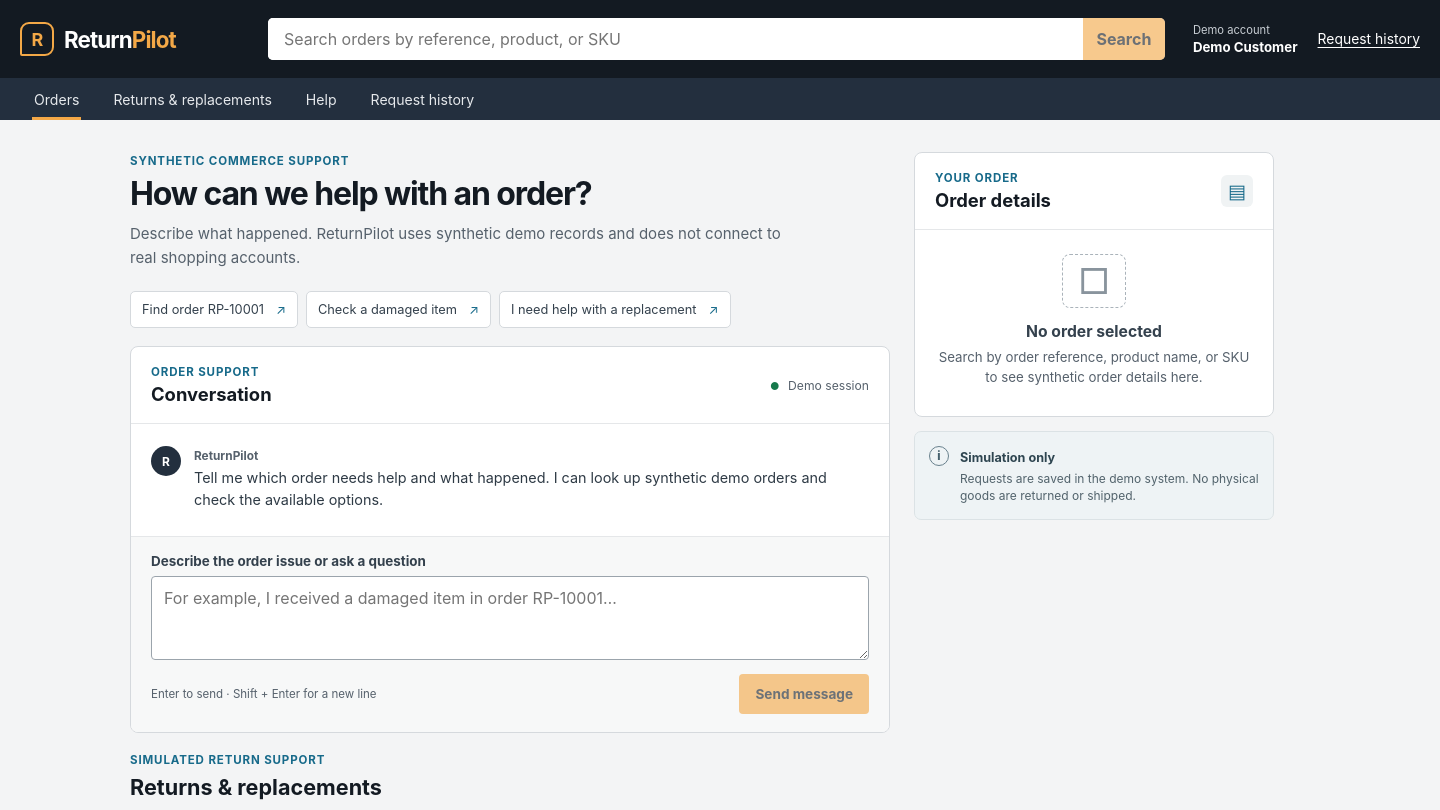
customer workspace › does not use a seeded order ID as a request-history ID
expect the text "Demo Customer" is shown: met, box [1193,39,1298,55]
Step 1. Type "RP-10001" into the field labelled "Search orders by reference, product, or SKU" → (675, 39), box [268,18,1083,60]
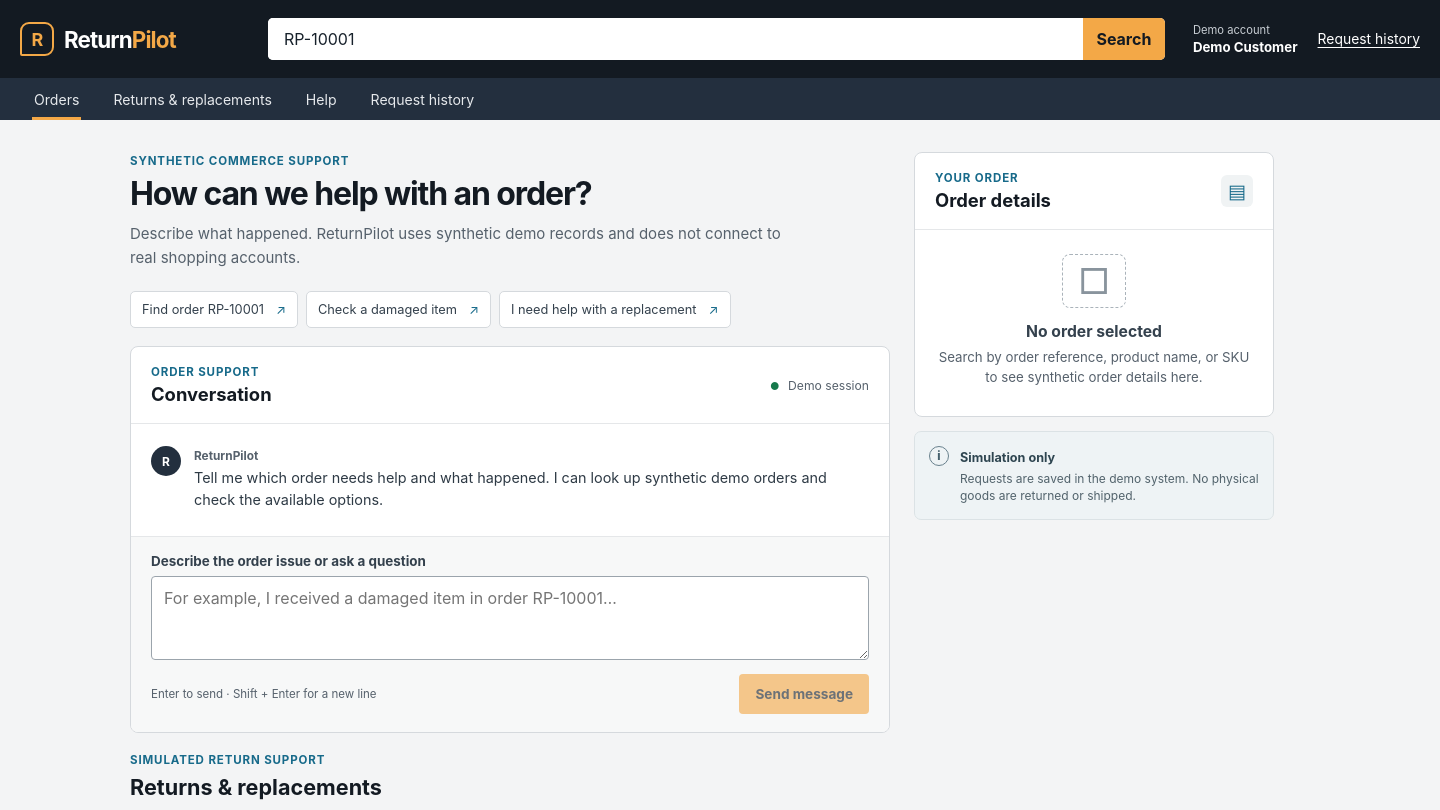
Step 2. Click the button with aria-label "Search orders" → (1124, 39), box [1083,18,1165,60]
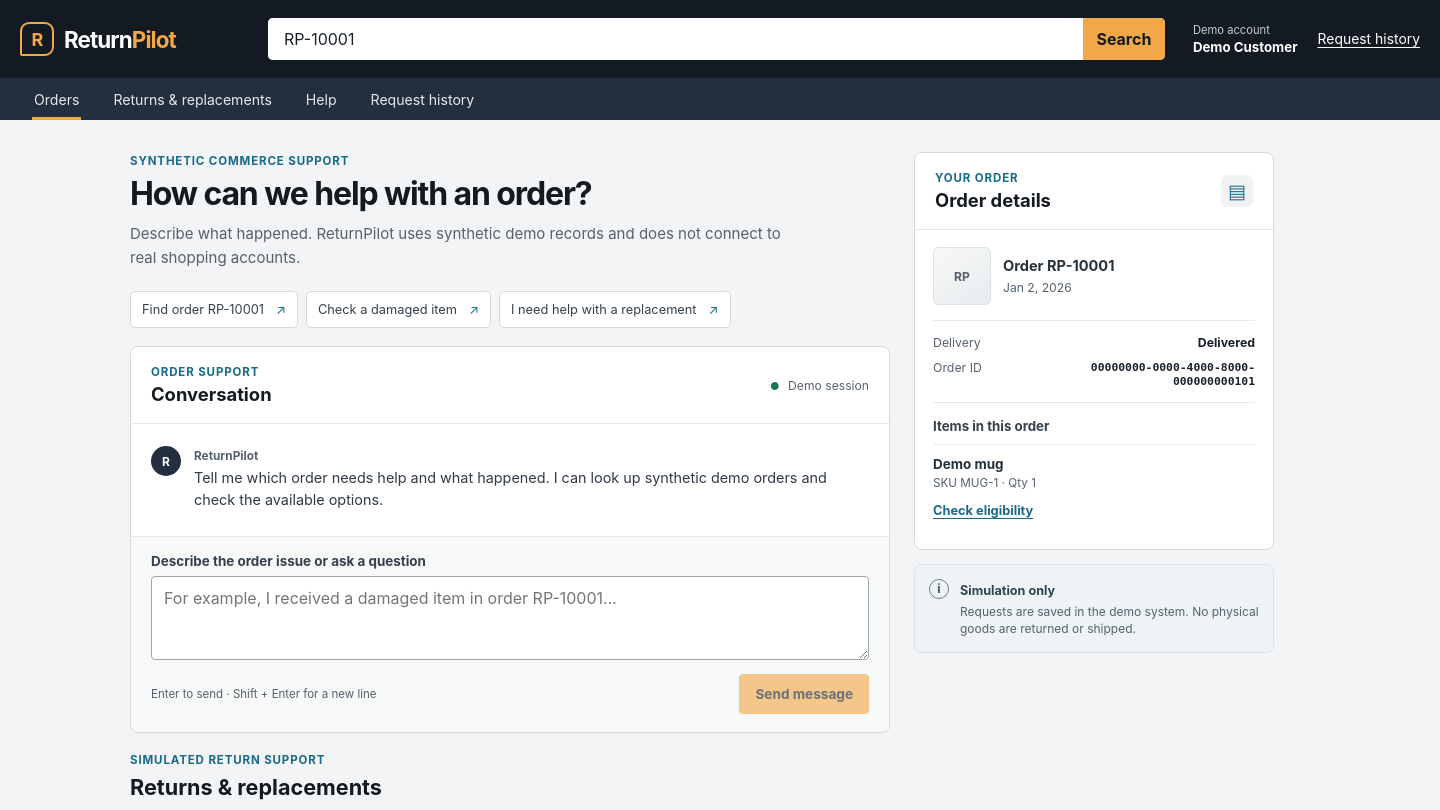
expect the text "Demo mug" is shown: met, box [933,456,1004,472]
Step 3. Click the button "Request history" next to "Demo Customer" → (1369, 39), box [1318,23,1420,55]
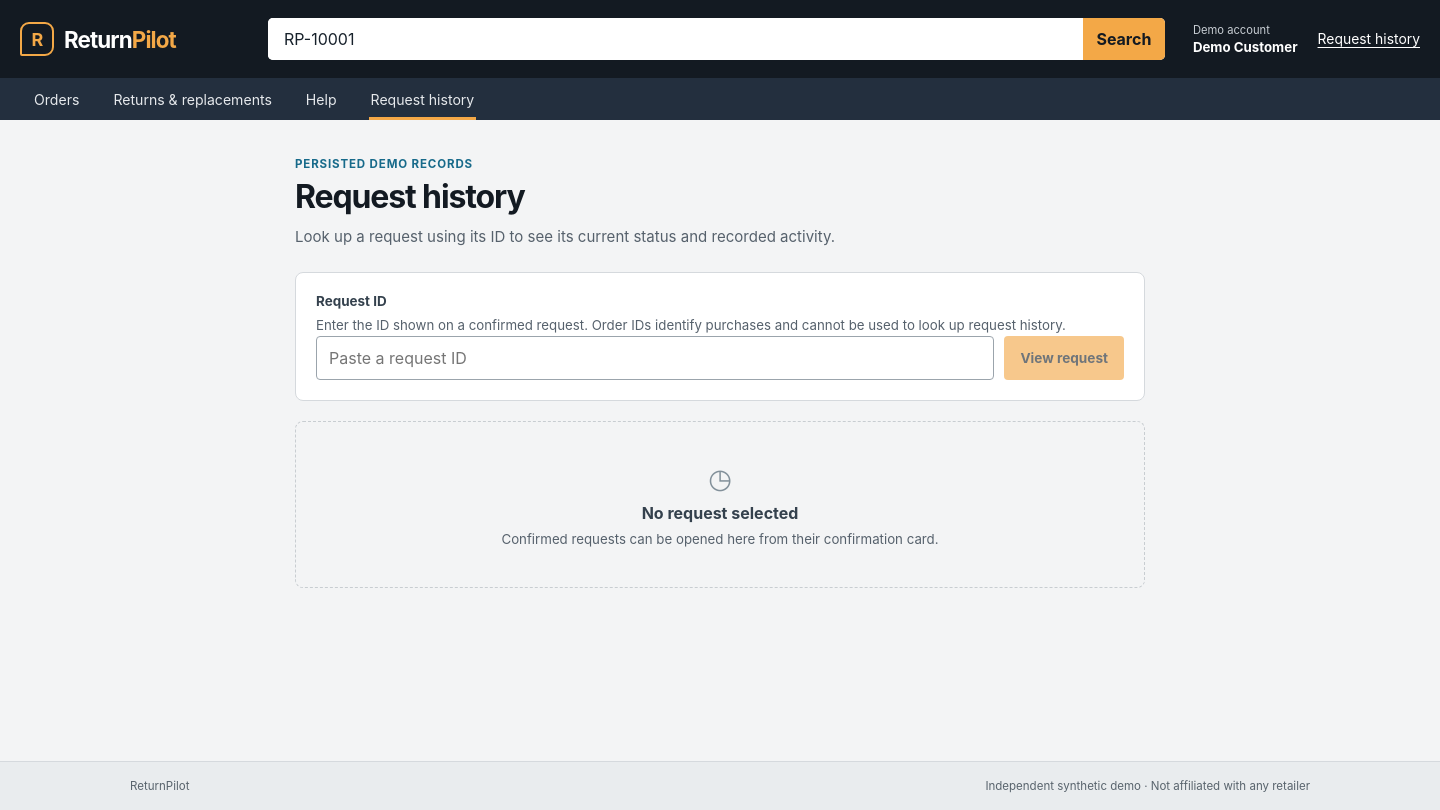
expect the field labelled "Request ID" is empty: met, box [316,336,994,380]
expect the text "Order IDs identify purchases and cannot be used to look up request history" is shown: met, box [316,317,1066,333]
